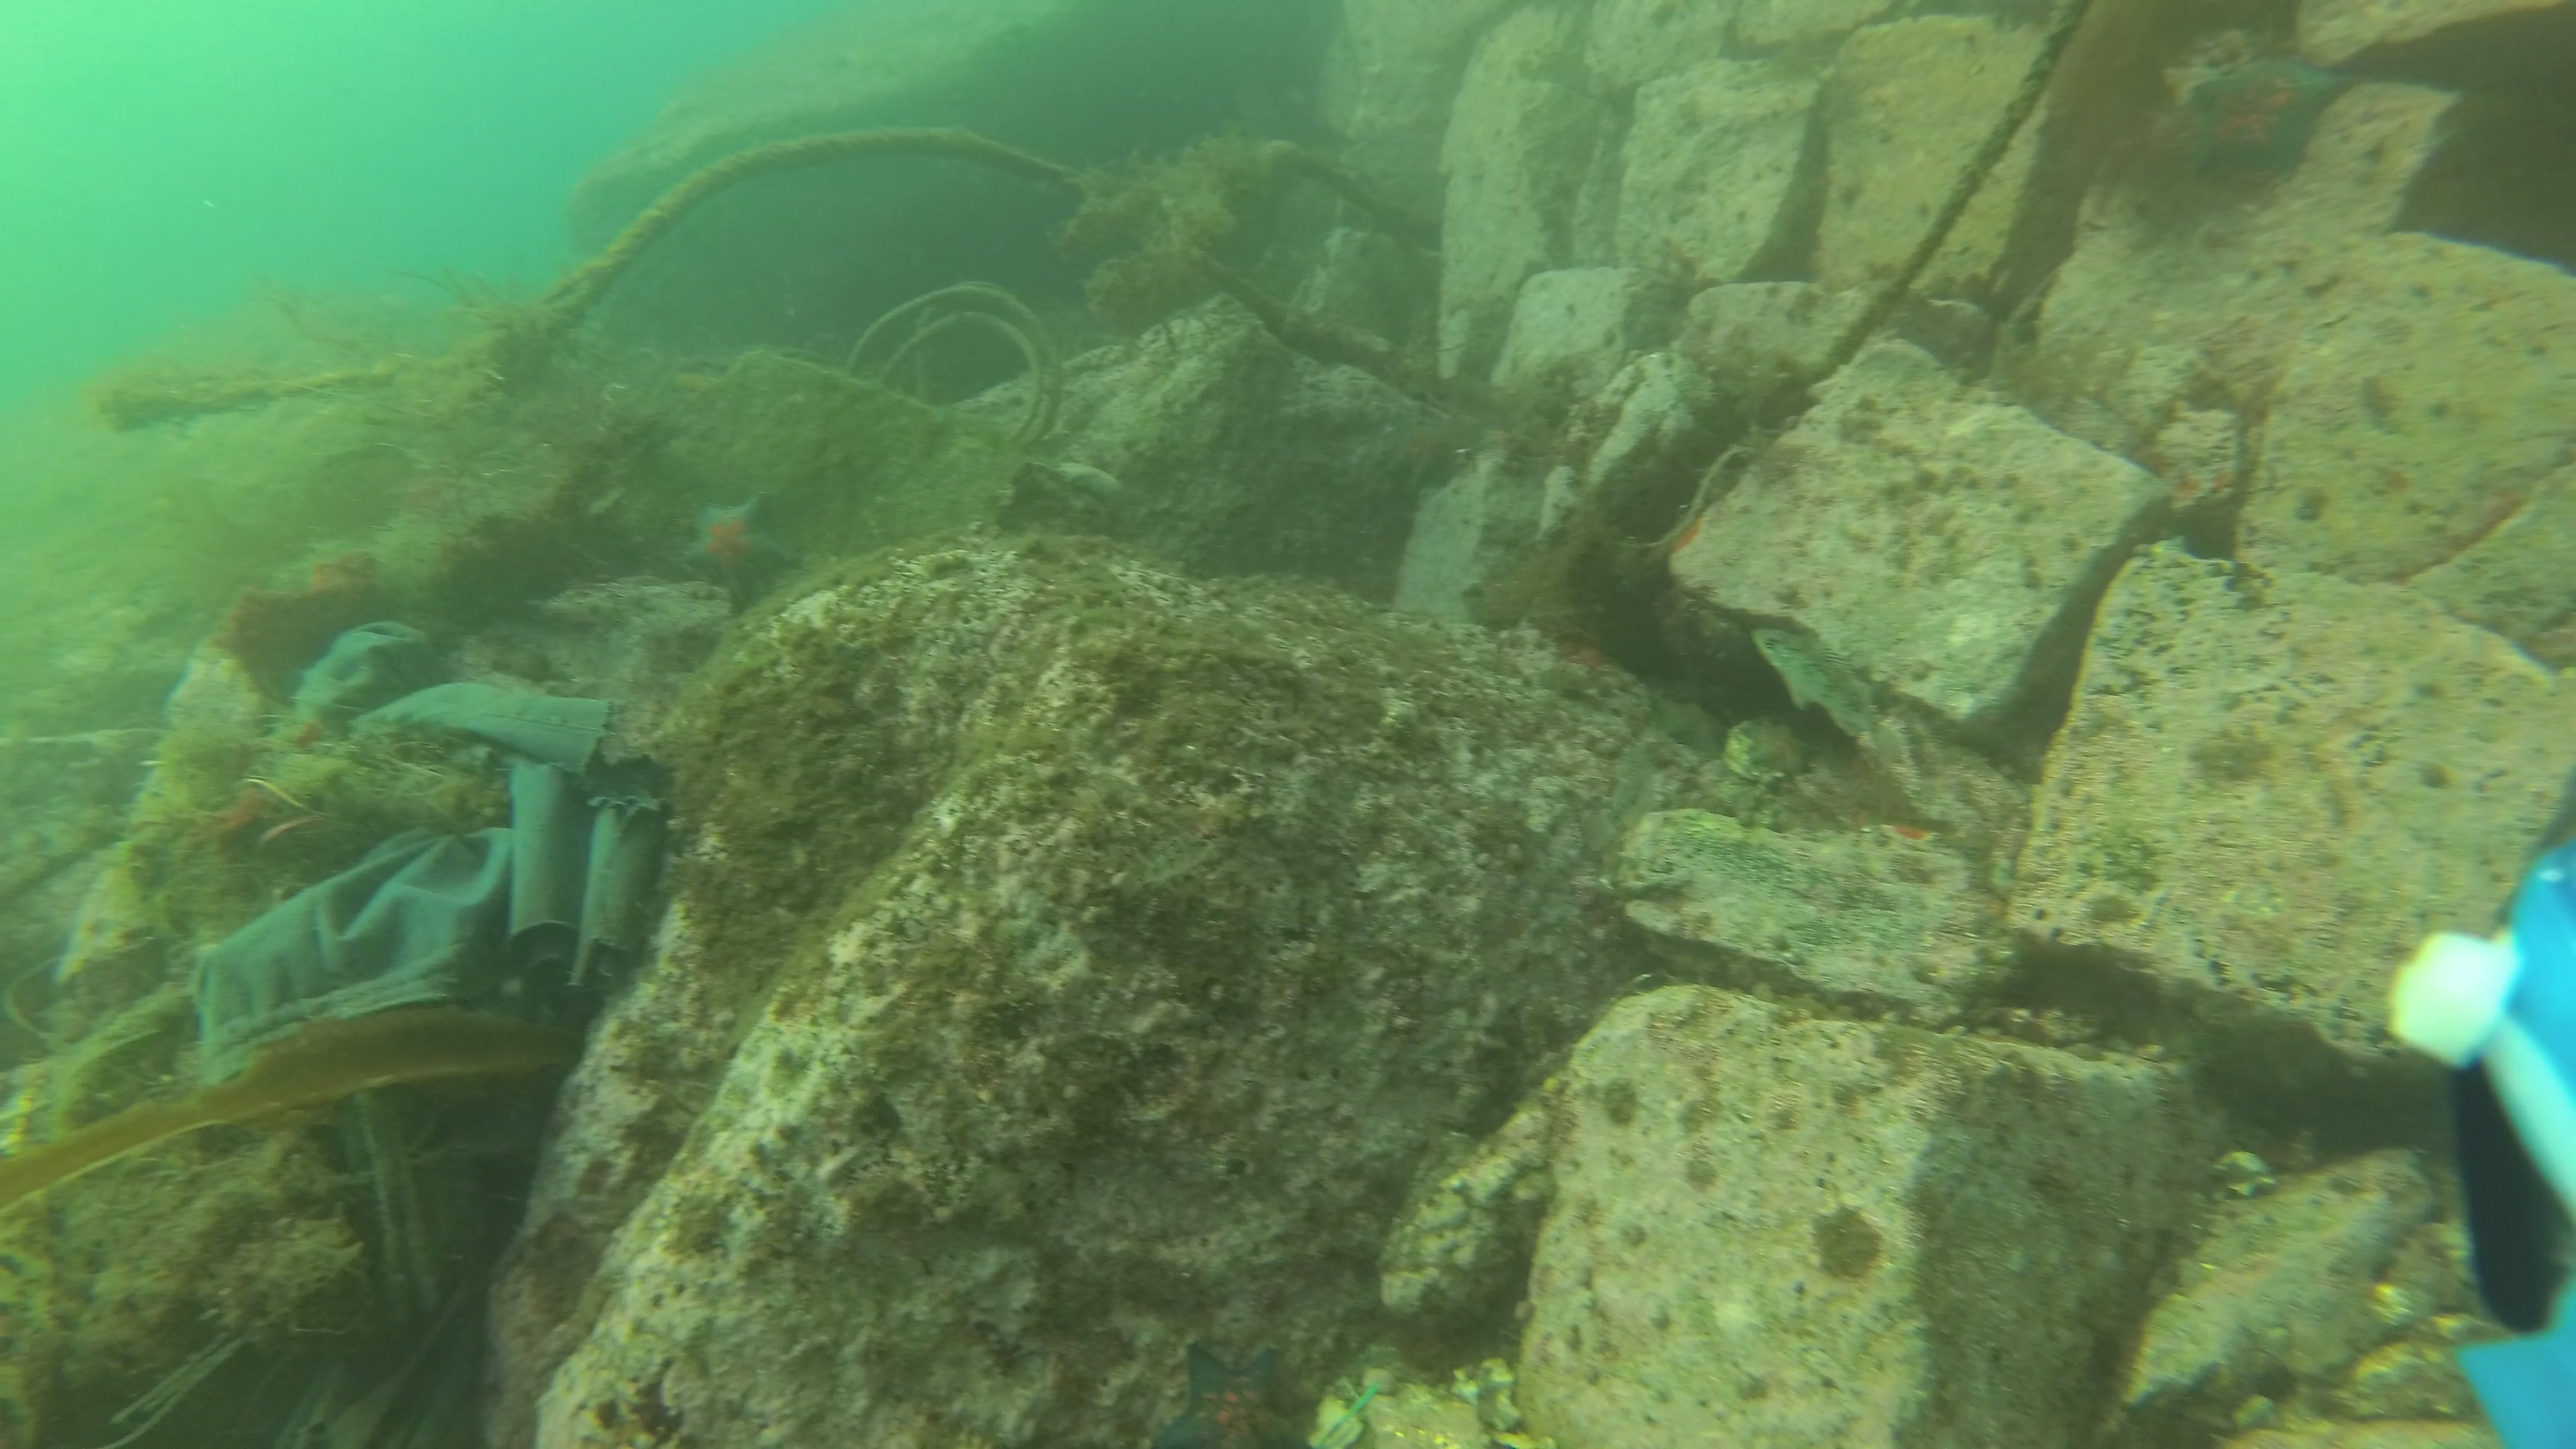starfish: (2176, 48, 2357, 186), (1157, 1311, 1338, 1449), (679, 483, 800, 600)
